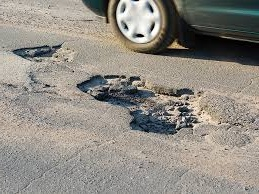pothole: (76, 71, 209, 133), (11, 39, 75, 66)
